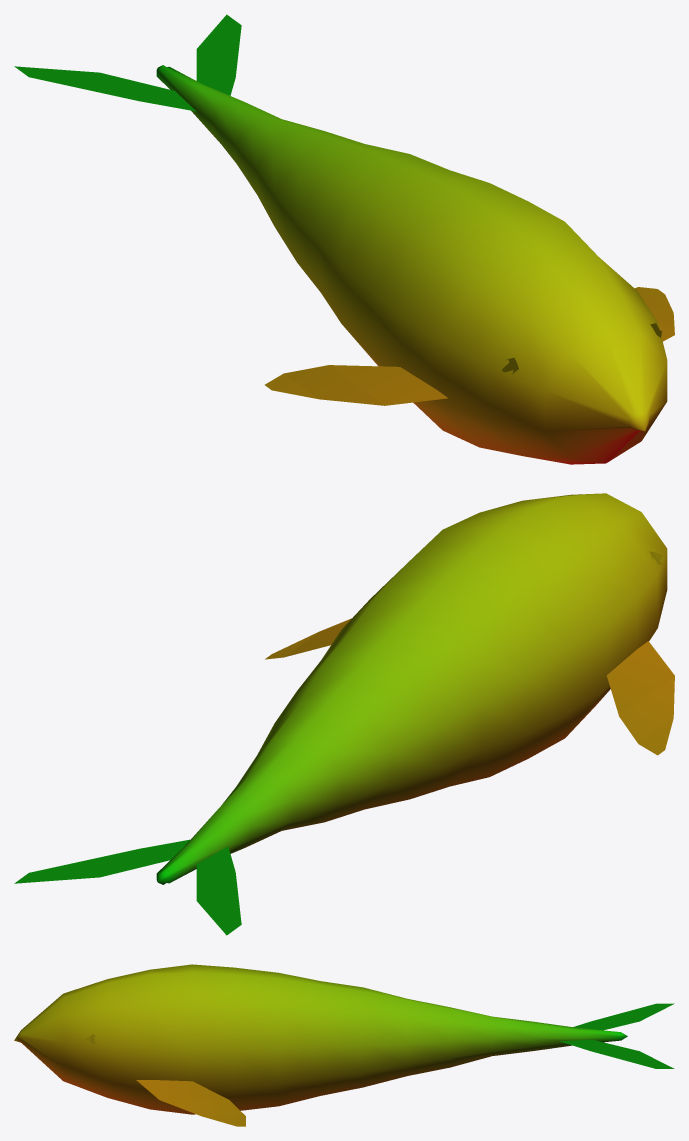
Rendered from narwhal.glb.
3 renders of one model, top to bottom at view 1: azimuth 30°, elevation 25°; view 2: azimuth 150°, elevation 25°; view 3: azimuth 270°, elevation 25°, orthographic. The views are drawn at different scales.
Visible parts, largest first — view 1: body; view 2: body; view 3: body.
Boxes of the visible parts, x1,y1,x2,y2 form: body: [14, 14, 674, 464]; body: [14, 493, 674, 935]; body: [14, 964, 674, 1126].
Bounding box in the file's own units: 0.4766 × 0.2539 × 1.1.
